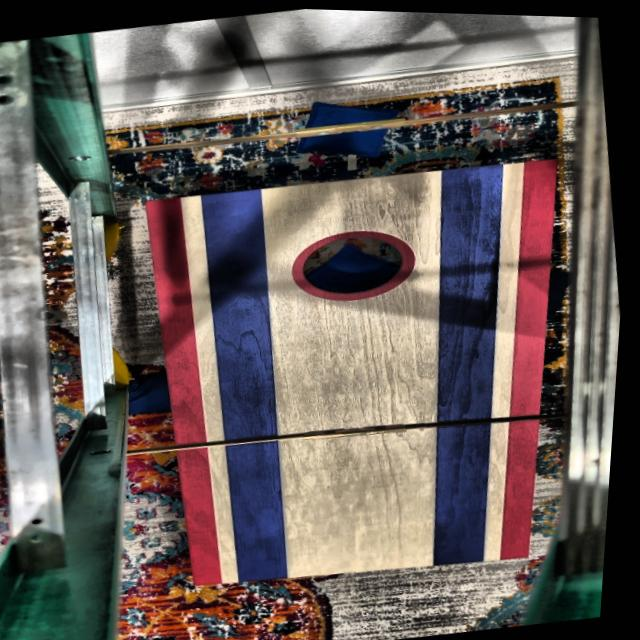blue-bean-bag: (289, 85, 405, 167), (127, 369, 179, 417), (543, 259, 585, 316)
blue-bean-bag-in-hole: (302, 231, 409, 299)
board: (150, 154, 554, 591)
hole: (288, 218, 429, 308)
